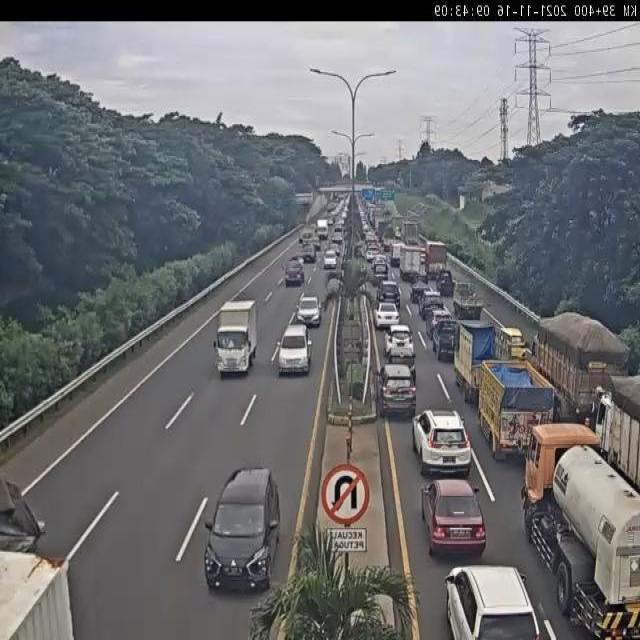Car: (203, 466, 281, 593), (444, 564, 544, 638), (420, 479, 486, 558), (410, 408, 471, 478), (376, 362, 418, 418), (277, 324, 312, 376), (432, 317, 458, 362), (384, 326, 415, 362), (296, 294, 322, 328), (374, 301, 401, 330), (419, 294, 445, 323), (378, 279, 400, 305), (284, 260, 305, 287), (410, 280, 429, 304), (372, 259, 389, 281), (302, 244, 317, 263), (323, 250, 338, 269), (331, 232, 343, 250)
Truck: (521, 426, 638, 640), (534, 311, 631, 412), (477, 358, 556, 462), (455, 319, 501, 400), (213, 299, 260, 375), (453, 281, 486, 314), (399, 244, 427, 279), (316, 218, 328, 240)
